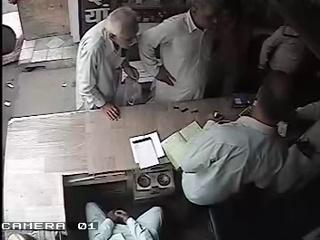Normal: (180, 70, 318, 239), (138, 0, 225, 104), (75, 6, 144, 121), (85, 202, 163, 239)
